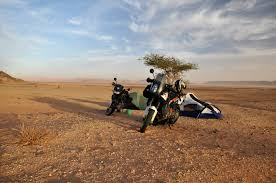motorcycle: (138, 73, 190, 132), (107, 77, 135, 116)
